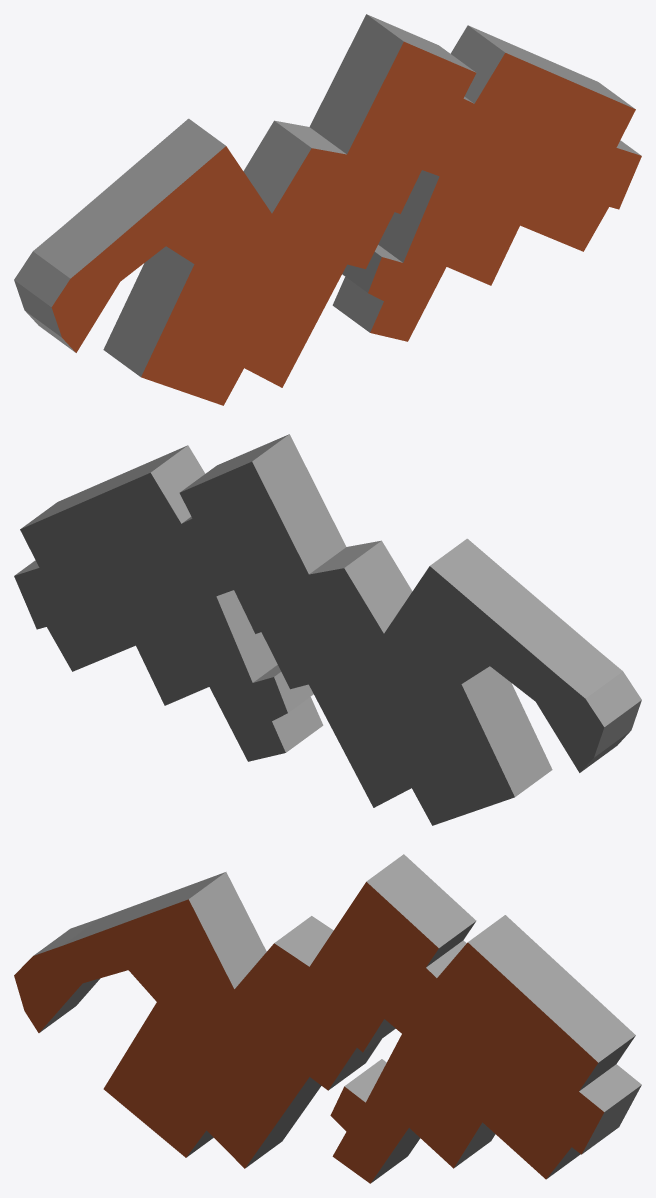
The model's file is construction_5745_assumed_A_Casa_h6m.obj.
The picture shows the model from 3 angles, top to bottom: view 1: azimuth 30°, elevation 25°; view 2: azimuth 150°, elevation 25°; view 3: azimuth 330°, elevation 25°; orthographic projection.
Parts seen in each view (by area): view 1: construction_5745_assumed_A_Casa; view 2: construction_5745_assumed_A_Casa; view 3: construction_5745_assumed_A_Casa.
Boxes of the visible parts, x1,y1,x2,y2 form: construction_5745_assumed_A_Casa: [14, 14, 641, 405]; construction_5745_assumed_A_Casa: [14, 434, 641, 825]; construction_5745_assumed_A_Casa: [14, 854, 641, 1183].
Bounding box in the file's own units: 54.41 × 28.21 × 6.
